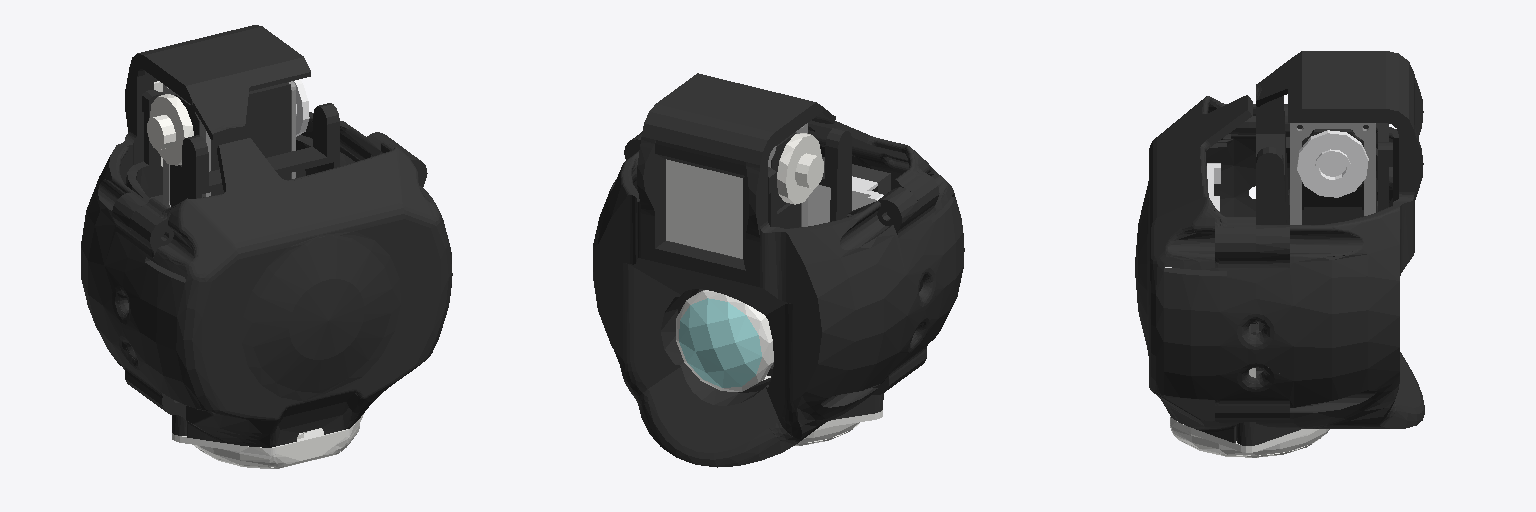
Rendered from Robot_Football_Player_SKS_2501_Head_B0348_Head_Base_06v1_1_mesh.obj.
3 renders of one model, left to right at view 1: azimuth 30°, elevation 25°; view 2: azimuth 150°, elevation 25°; view 3: azimuth 270°, elevation 25°, orthographic.
Parts seen in each view (by area): view 1: Body3, Body2, Body1, Body14, Body4, Body15, Body8, Body24; view 2: Body2, Body3, Body11, Body6, Body1, Body15, Body10, Body4, Body14, Body12; view 3: Body2, Body3, Body1, Body24, Body7, Body4, Body14, Body22.
Part boxes in pixels (left/top/right/bottom): Body3: left=122, top=138, right=452, bottom=447; Body2: left=81, top=25, right=399, bottom=395; Body1: left=125, top=90, right=354, bottom=435; Body14: left=170, top=82, right=290, bottom=206; Body4: left=172, top=414, right=363, bottom=468; Body15: left=147, top=94, right=193, bottom=165; Body8: left=163, top=84, right=210, bottom=207; Body24: left=293, top=79, right=309, bottom=136; Body2: left=593, top=73, right=925, bottom=467; Body3: left=808, top=120, right=964, bottom=377; Body11: left=676, top=290, right=773, bottom=391; Body6: left=666, top=159, right=742, bottom=258; Body1: left=698, top=128, right=890, bottom=419; Body15: left=777, top=133, right=823, bottom=204; Body10: left=808, top=176, right=883, bottom=225; Body4: left=762, top=375, right=882, bottom=445; Body14: left=771, top=133, right=800, bottom=228; Body12: left=823, top=157, right=890, bottom=191; Body2: left=1256, top=51, right=1424, bottom=428; Body3: left=1135, top=95, right=1255, bottom=442; Body1: left=1229, top=96, right=1392, bottom=445; Body24: left=1297, top=130, right=1368, bottom=197; Body7: left=1290, top=123, right=1375, bottom=224; Body4: left=1170, top=368, right=1329, bottom=457; Body14: left=1297, top=125, right=1368, bottom=224; Body22: left=1302, top=184, right=1363, bottom=209.
Size of the model in its own units: 0.094 by 0.1079 by 0.0806.